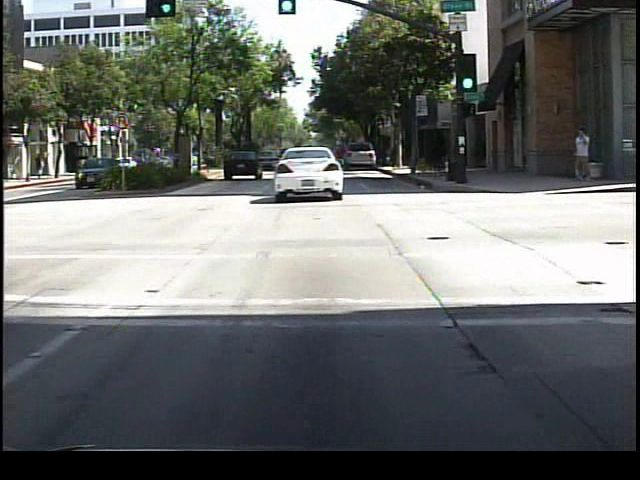person: (569, 125, 594, 182), (33, 151, 49, 186)
